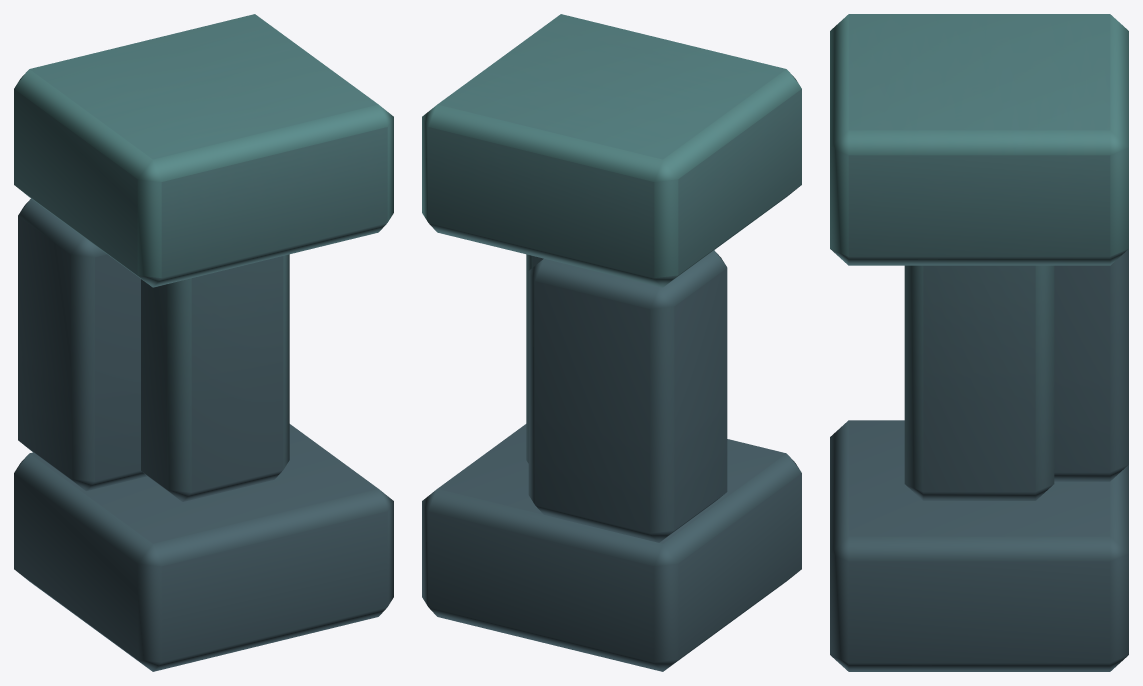
The model's file is wall_pannel_corner_hue_1.fbx.
3 views of the same model, side by side, from view 1: azimuth 30°, elevation 25°; view 2: azimuth 150°, elevation 25°; view 3: azimuth 270°, elevation 25° (orthographic). The views are drawn at different scales.
Visible parts, largest first — view 1: wall_pannel_corner_hue_1; view 2: wall_pannel_corner_hue_1; view 3: wall_pannel_corner_hue_1.
Part boxes in pixels (left/top/right/bottom): wall_pannel_corner_hue_1: left=14, top=14, right=393, bottom=671; wall_pannel_corner_hue_1: left=422, top=14, right=801, bottom=671; wall_pannel_corner_hue_1: left=830, top=14, right=1128, bottom=671.
Size of the model in its own units: 52.34 by 100 by 50.
